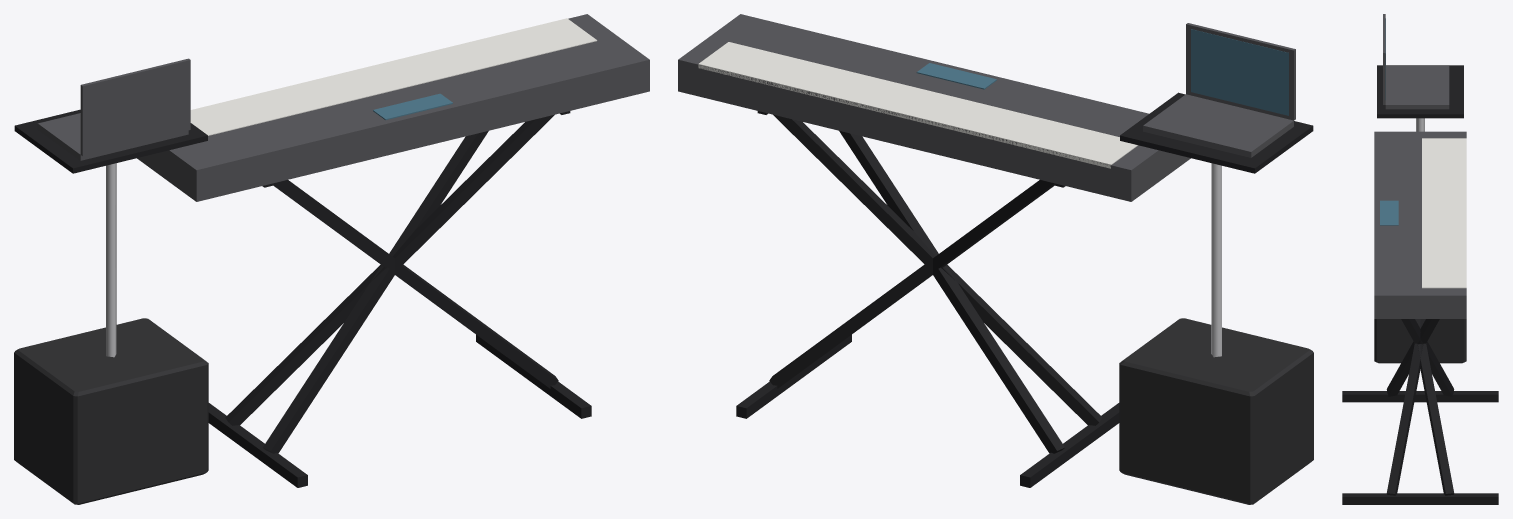
Rendered from synth-88-low.glb.
The picture shows the model from 3 angles, left to right: view 1: azimuth 30°, elevation 25°; view 2: azimuth 150°, elevation 25°; view 3: azimuth 270°, elevation 25°; orthographic projection. The views are drawn at different scales.
Visible parts, largest first — view 1: panel, cabinet, frame, keys, metal, screen; view 2: panel, cabinet, frame, keys, screen, metal; view 3: panel, frame, keys, cabinet, screen.
Boxes of the visible parts, left/top/right/bottom form: panel: left=37, top=14, right=649, bottom=201; cabinet: left=14, top=318, right=208, bottom=504; frame: left=14, top=109, right=591, bottom=487; keys: left=190, top=18, right=597, bottom=135; metal: left=106, top=163, right=116, bottom=357; screen: left=373, top=93, right=452, bottom=120; panel: left=678, top=14, right=1295, bottom=201; cabinet: left=1119, top=318, right=1313, bottom=504; frame: left=736, top=92, right=1313, bottom=487; keys: left=698, top=42, right=1137, bottom=168; screen: left=916, top=29, right=1288, bottom=115; metal: left=1211, top=163, right=1221, bottom=357; panel: left=1374, top=14, right=1466, bottom=318; frame: left=1342, top=65, right=1498, bottom=504; keys: left=1422, top=138, right=1466, bottom=288; cabinet: left=1374, top=319, right=1466, bottom=363; screen: left=1380, top=18, right=1398, bottom=225.
Bounding box in the file's own units: 1.7 × 1.21 × 0.54.
